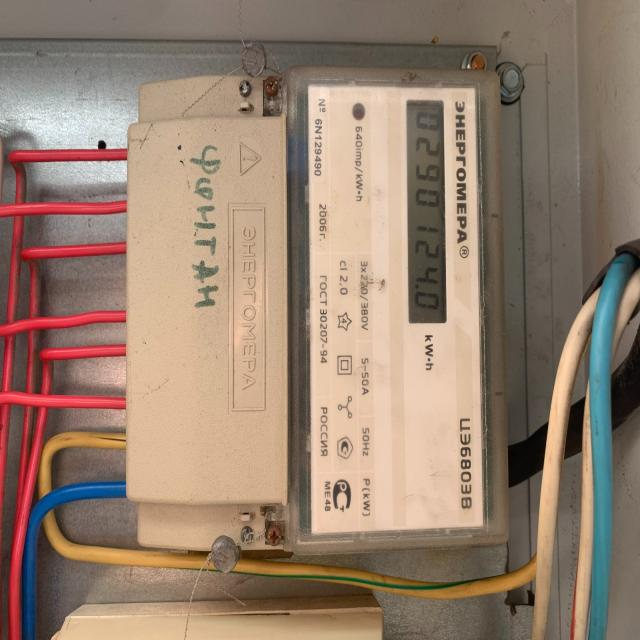Display: (401, 90, 451, 324)
meter_energomer: (63, 32, 549, 590)
